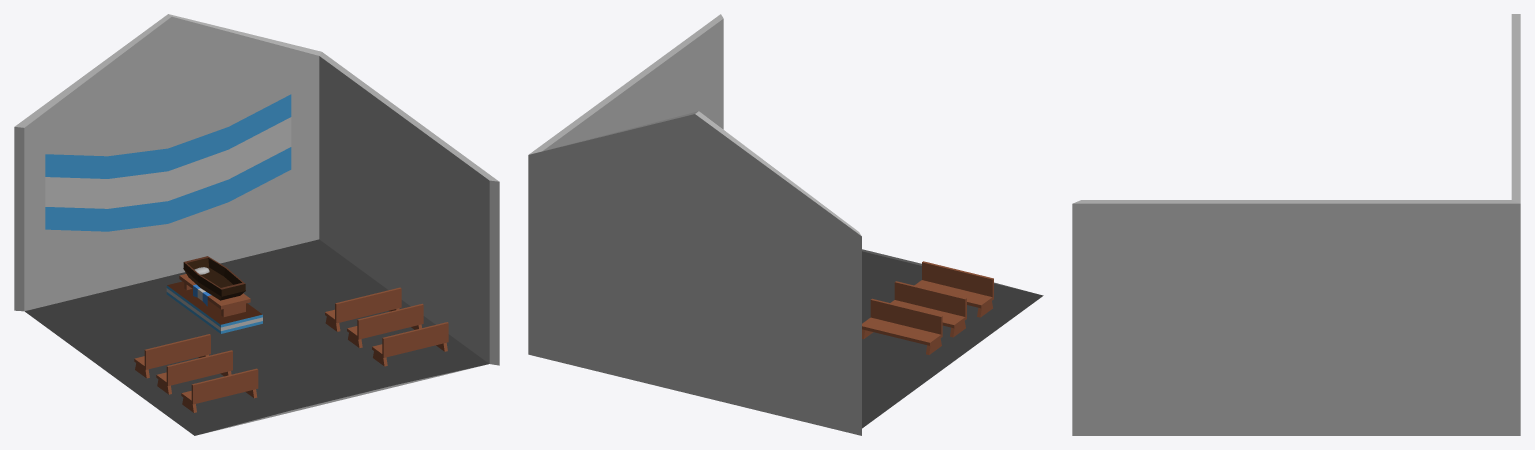
File: Iglesia Parte 01.fbx
3 views of the same model, side by side, from view 1: azimuth 30°, elevation 25°; view 2: azimuth 150°, elevation 25°; view 3: azimuth 270°, elevation 25° (orthographic). The views are drawn at different scales.
Visible parts, largest first — view 1: Cube.059; view 2: Cube.059; view 3: Cube.059.
Part boxes in pixels (x1=…): Cube.059: x1=14, y1=14, x2=499, y2=435; Cube.059: x1=528, y1=14, x2=1043, y2=435; Cube.059: x1=1072, y1=14, x2=1520, y2=435.
Bounding box in the file's own units: 12.14 × 9.78 × 12.14.
